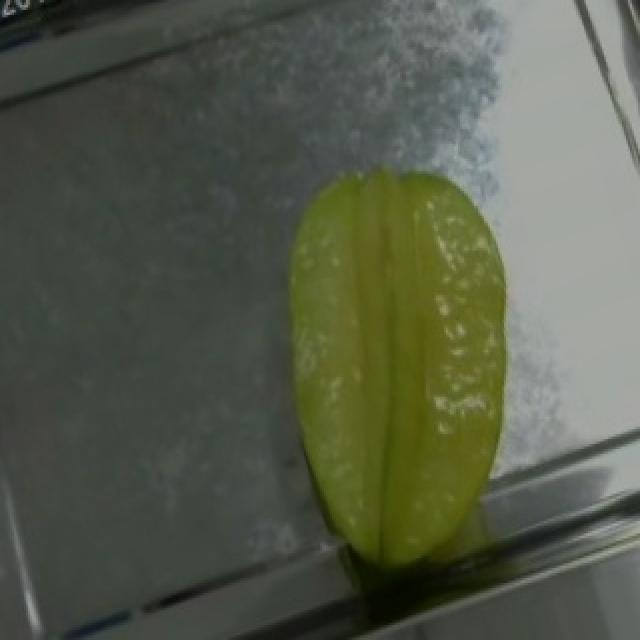fruit: (226, 137, 586, 576)
